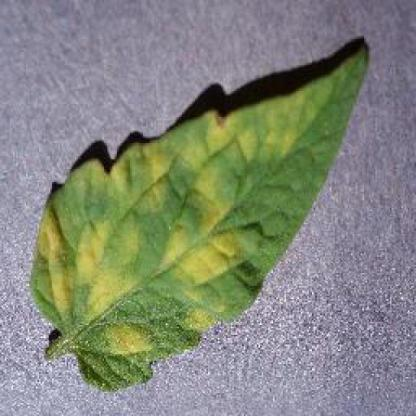Tomato_Leaf_Mold: (33, 45, 366, 389)
